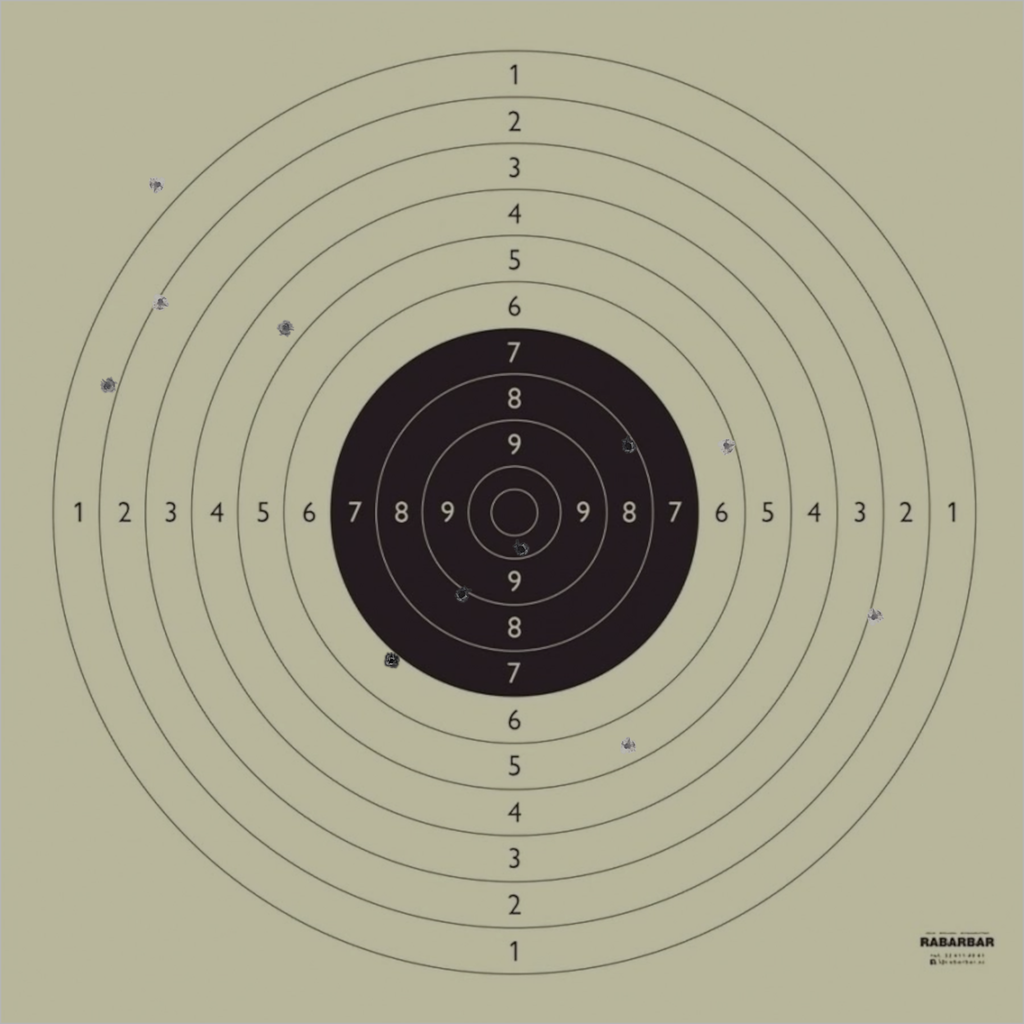0 punktow: (148, 176, 166, 194)
1 punkt: (98, 377, 117, 395)
10 punktow: (512, 540, 530, 558)
2 punkty: (151, 293, 170, 311)
3 punkty: (865, 607, 884, 626)
4 punkty: (277, 318, 295, 337)
5 punktow: (618, 737, 637, 755)
6 punktow: (718, 437, 736, 455)
7 punktow: (382, 652, 400, 670)
8 punktow: (619, 437, 638, 455)
9 punktow: (453, 585, 471, 604)
